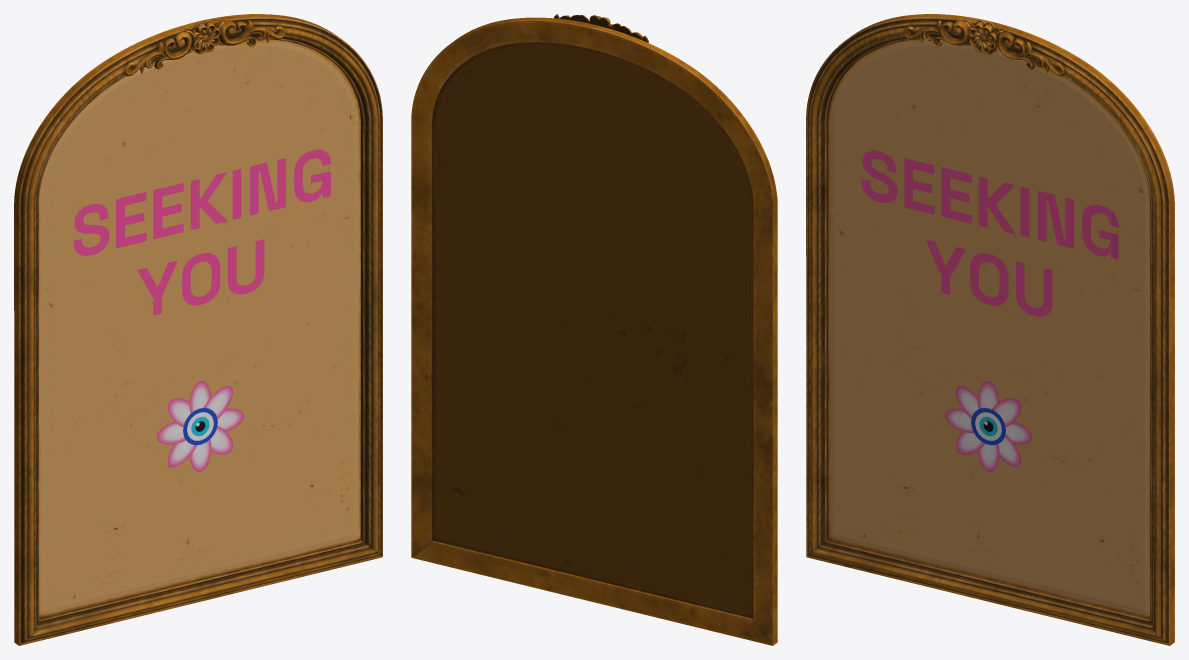
File: nyb_susan_mirror.glb
3 renders of one model, left to right at view 1: azimuth 30°, elevation 25°; view 2: azimuth 150°, elevation 25°; view 3: azimuth 330°, elevation 25°, orthographic.
Visible parts, largest first — view 1: ornate_mirror_01, stk_lbl_1f7b8b88ed.png, stk_eyeflower.png; view 2: ornate_mirror_01; view 3: ornate_mirror_01, stk_lbl_1f7b8b88ed.png, stk_eyeflower.png.
Part boxes in pixels (x1=…): ornate_mirror_01: x1=14, y1=14, x2=382, y2=645; stk_lbl_1f7b8b88ed.png: x1=73, y1=149, x2=330, y2=315; stk_eyeflower.png: x1=157, y1=381, x2=243, y2=471; ornate_mirror_01: x1=411, y1=14, x2=777, y2=645; ornate_mirror_01: x1=806, y1=14, x2=1174, y2=645; stk_lbl_1f7b8b88ed.png: x1=861, y1=150, x2=1118, y2=316; stk_eyeflower.png: x1=945, y1=381, x2=1031, y2=471.
Size of the model in its own units: 0.4865 by 0.7442 by 0.026.
3 materials, 3 textured.
